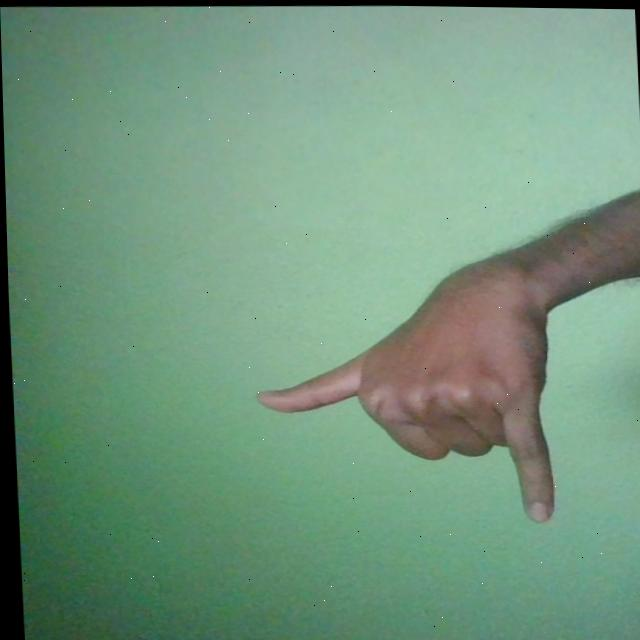Call Me: (243, 240, 556, 527)
